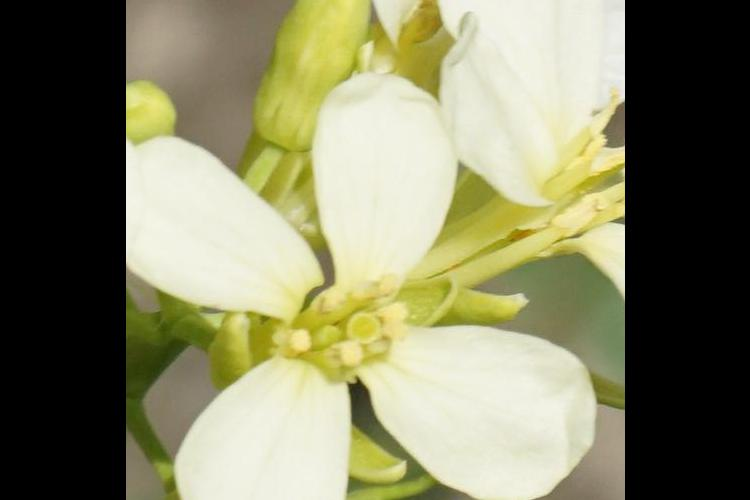bud: (239, 1, 373, 153)
white: (154, 119, 539, 500), (370, 1, 608, 193)
